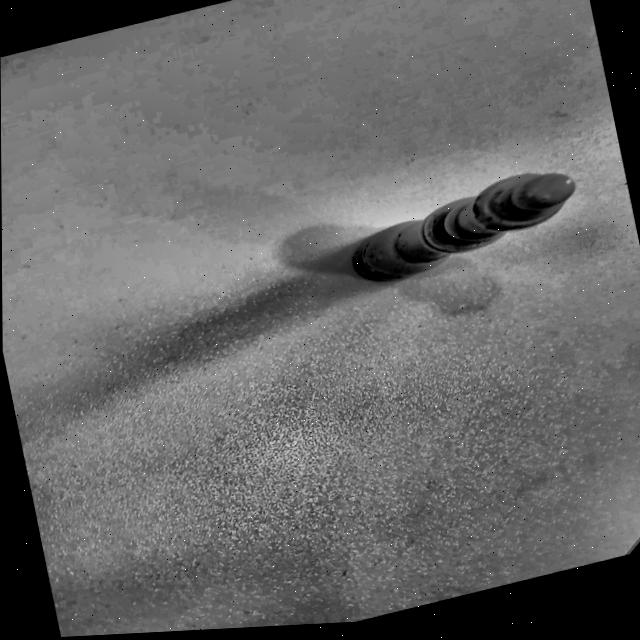white-queen: (281, 117, 611, 332)
